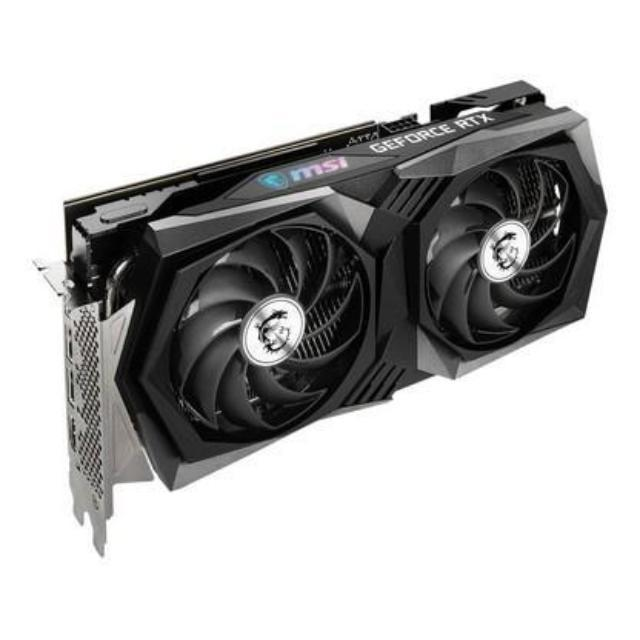GPU: (70, 74, 608, 486)
